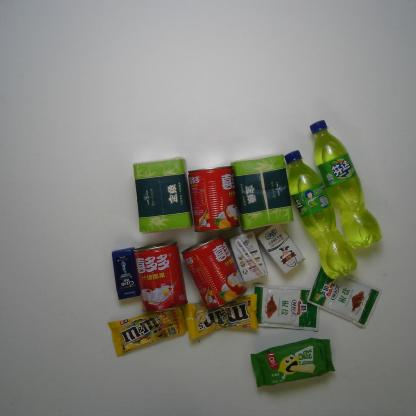Canned Food: (180, 234, 249, 310), (133, 239, 188, 314), (187, 164, 241, 234)
Chocolate: (107, 306, 189, 357), (180, 293, 260, 340)
Dessert: (250, 336, 336, 389)
Drink: (284, 149, 358, 280), (309, 118, 382, 250)
Milk: (256, 224, 306, 276), (229, 230, 269, 283)
Personal Hygiene: (111, 246, 141, 301)
Seasoner: (306, 263, 382, 329), (251, 283, 320, 332)
Tissue: (229, 152, 295, 232), (132, 155, 195, 235)
